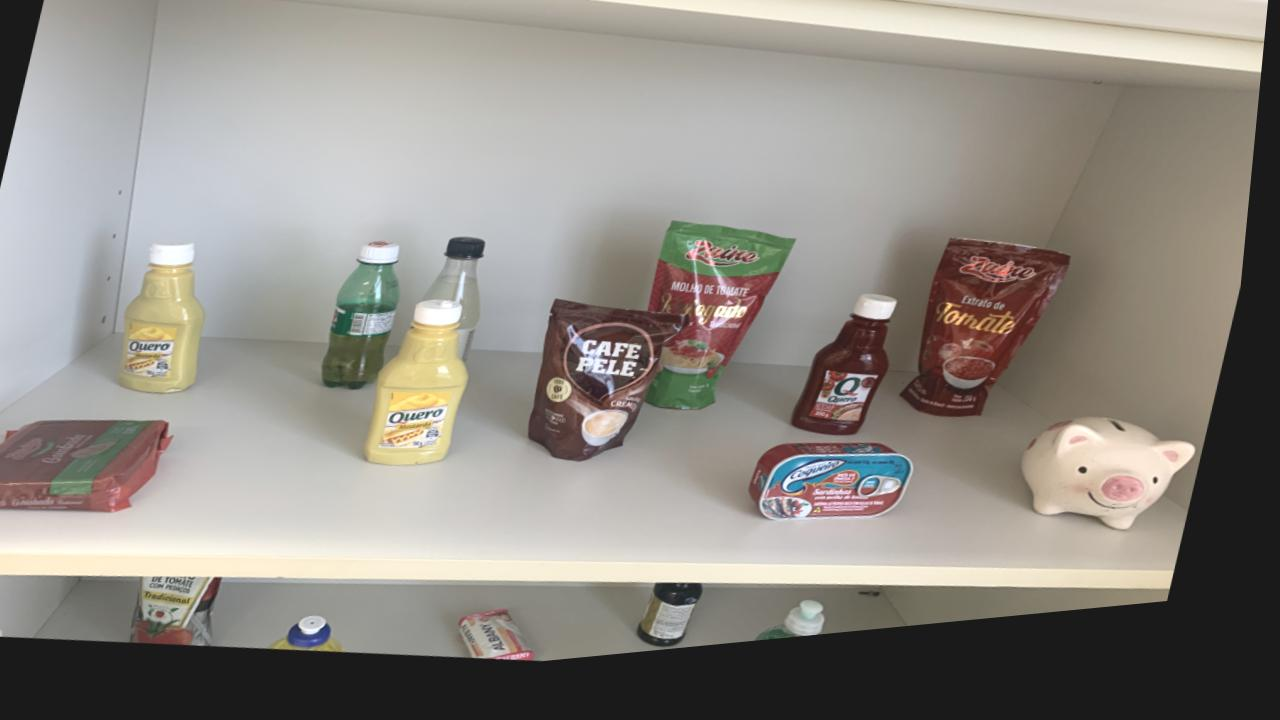Coffee-Pantry_Items: (537, 310, 697, 474)
Detergent-Cleanup_Items: (281, 622, 357, 660), (770, 618, 839, 658)
English_Sauce-Pantry_Items: (650, 597, 716, 661)
Guarana-Drinks: (329, 249, 407, 396)
Guava-Snacks: (0, 421, 180, 515)
Ketchup-Pantry_Items: (801, 312, 904, 453), (125, 246, 211, 397)
Mustard-Pantry_Items: (373, 308, 477, 474)
Pig_Safe-Miscellaneous: (1032, 440, 1206, 553)
Soap-Cleanup_Items: (472, 621, 547, 672)
Soda-Drinks: (430, 246, 491, 371)
Tomato_Sauce-Pantry_Items: (911, 258, 1077, 438), (655, 236, 801, 424), (144, 580, 231, 651)
Tuna_Can-Pantry_Items: (760, 460, 925, 537)
